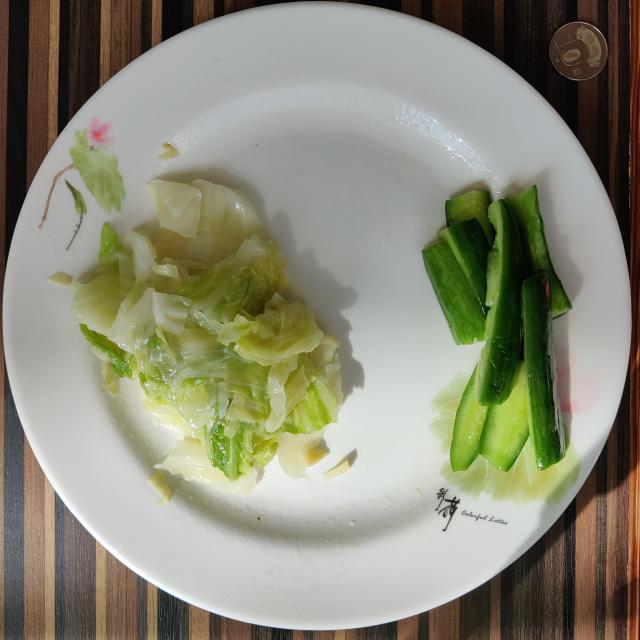cabbage: (50, 180, 342, 494)
coin: (550, 21, 608, 80)
cucumber: (422, 186, 571, 471)
